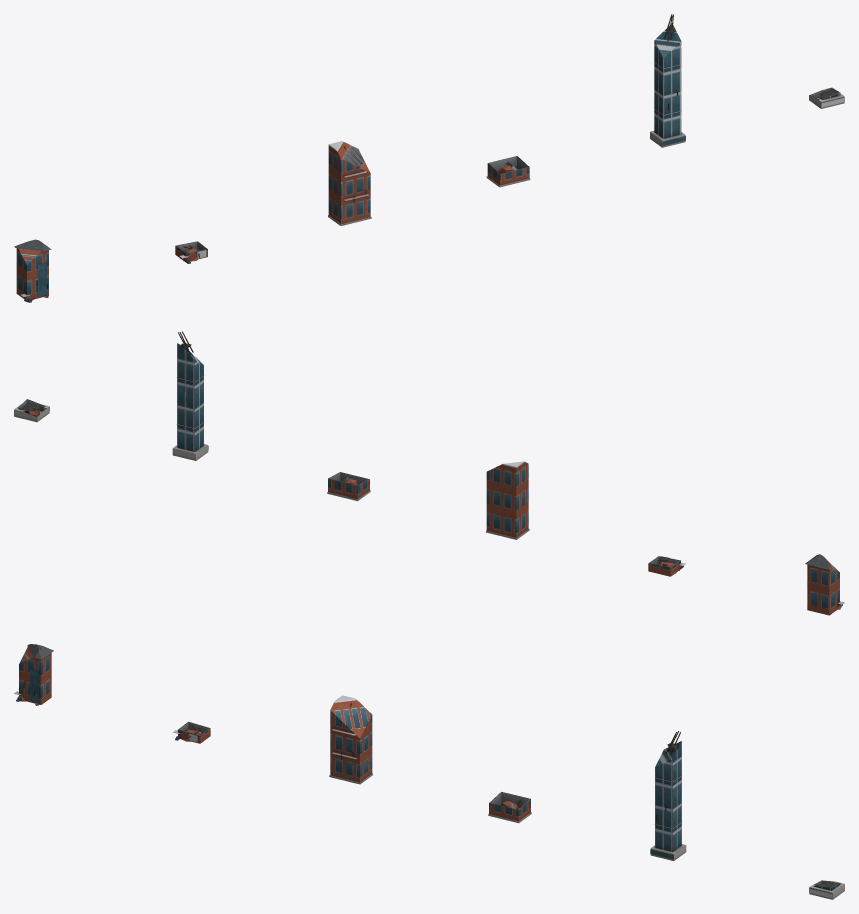
Rendered from information-europe-houses-damage.glb.
3 views of the same model, one above another, from view 1: azimuth 30°, elevation 25°; view 2: azimuth 150°, elevation 25°; view 3: azimuth 330°, elevation 25° (orthographic).
Parts seen in each view (by area): view 1: LOD0.004, LOD0.002, LOD0, LOD0.003, LOD0.005; view 2: LOD0.002, LOD0.004, LOD0, LOD0.003, LOD0.005, LOD0.001; view 3: LOD0.002, LOD0.004, LOD0, LOD0.003, LOD0.001, LOD0.005.
Boxes of the visible parts, x1,y1,x2,y2 form: LOD0.004: [650, 14, 685, 147]; LOD0.002: [328, 141, 371, 225]; LOD0: [14, 239, 51, 302]; LOD0.003: [486, 156, 530, 187]; LOD0.005: [809, 87, 844, 108]; LOD0.002: [486, 461, 529, 539]; LOD0.004: [172, 331, 208, 460]; LOD0: [805, 554, 844, 615]; LOD0.003: [327, 472, 370, 501]; LOD0.005: [14, 399, 49, 422]; LOD0.001: [648, 556, 685, 576]; LOD0.002: [329, 695, 372, 784]; LOD0.004: [650, 731, 686, 860]; LOD0: [14, 644, 53, 705]; LOD0.003: [488, 792, 531, 823]; LOD0.001: [173, 722, 210, 743]; LOD0.005: [809, 880, 844, 899].
Size of what is drawn, in the model's own units: 15.49 by 2.21 by 0.471.
Materials: 1 (1 with a texture image).
